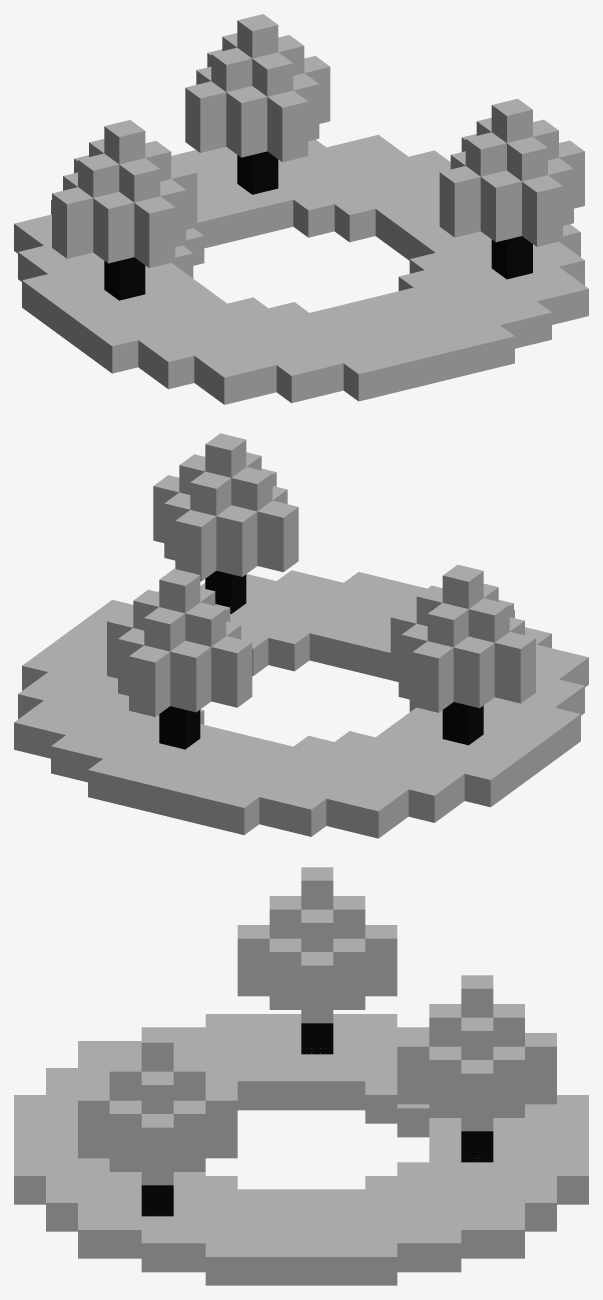
Rendered from stage3.obj.
3 views of the same model, one above another, from view 1: azimuth 30°, elevation 25°; view 2: azimuth 150°, elevation 25°; view 3: azimuth 270°, elevation 25° (orthographic). The views are drawn at different scales.
Bounding box in the file's own units: 1.8 × 0.7 × 1.8.
